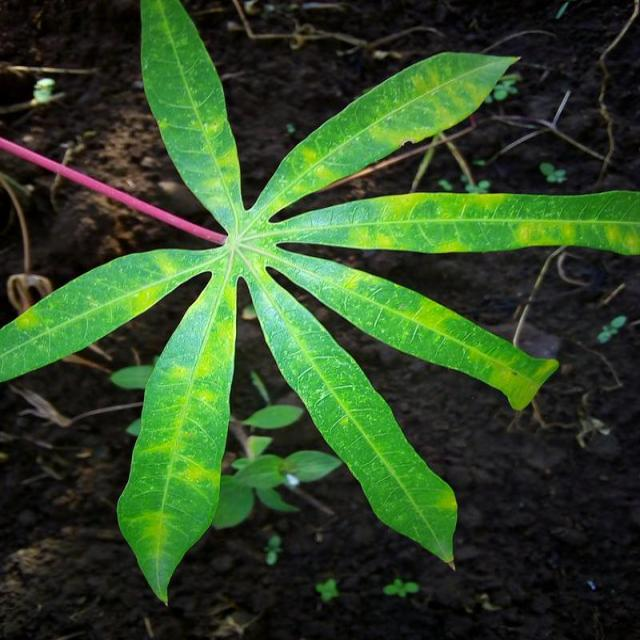cassava leaf: (0, 0, 638, 605)
